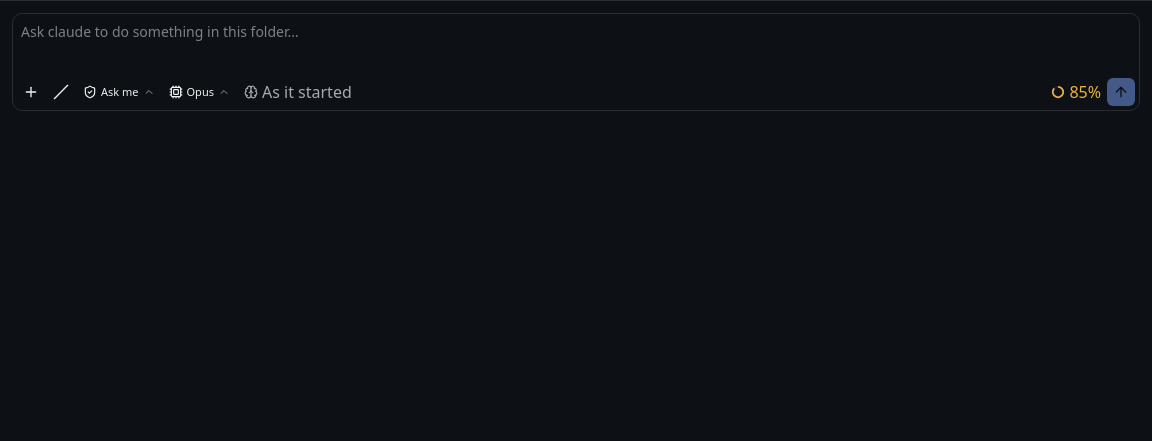
Test: the mode, the model and the effort in the bar — plan 09, B-11 › puts the chip back, with the refusal translated above the box — S-23
Click the button "Ask me" at (119, 92), box left=77, top=78, right=160, bottom=106
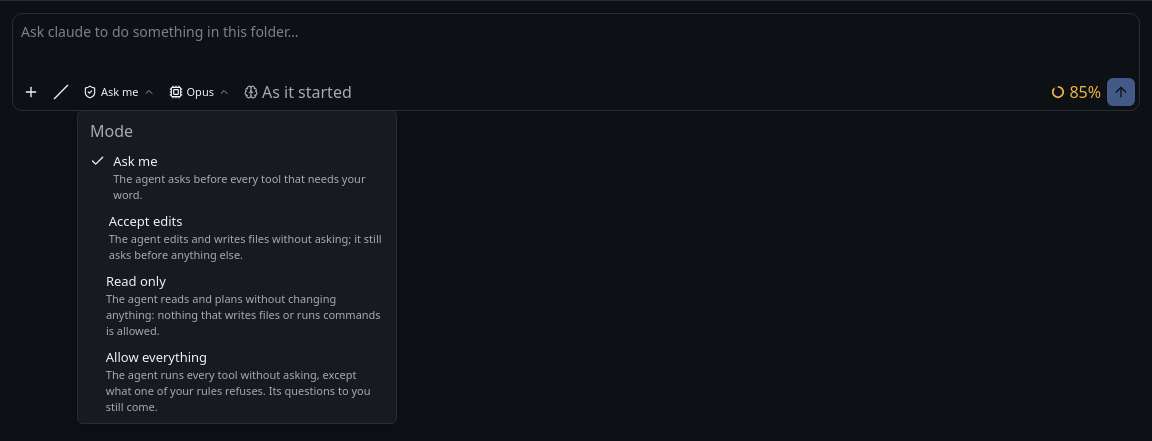
Click the menu item that starts with "Read only" at (237, 305), box left=82, top=267, right=392, bottom=343
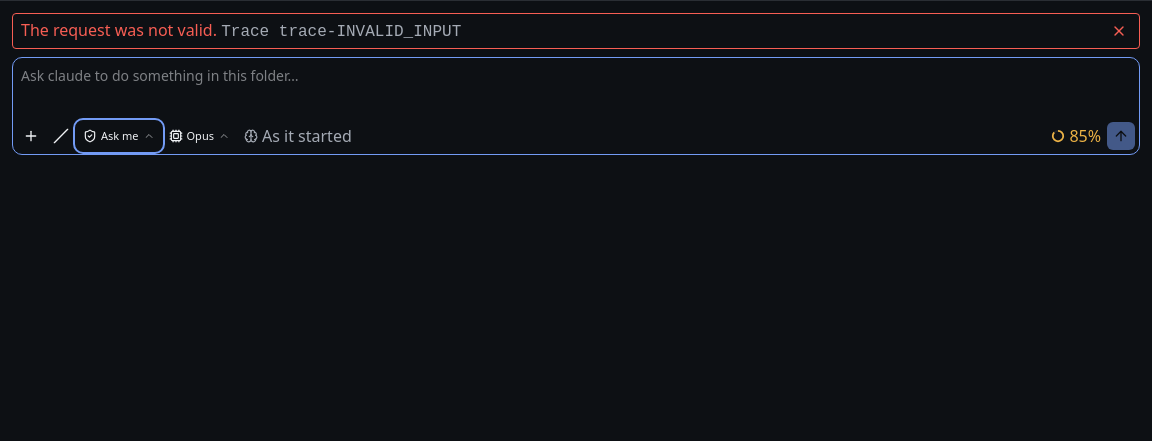
Result: the message shows "The request was not valid." at left=21, top=19, right=217, bottom=41
The strip closes, and the box stays as it was.
Click the button named "Close this message" at (1119, 31), box left=1107, top=19, right=1131, bottom=43
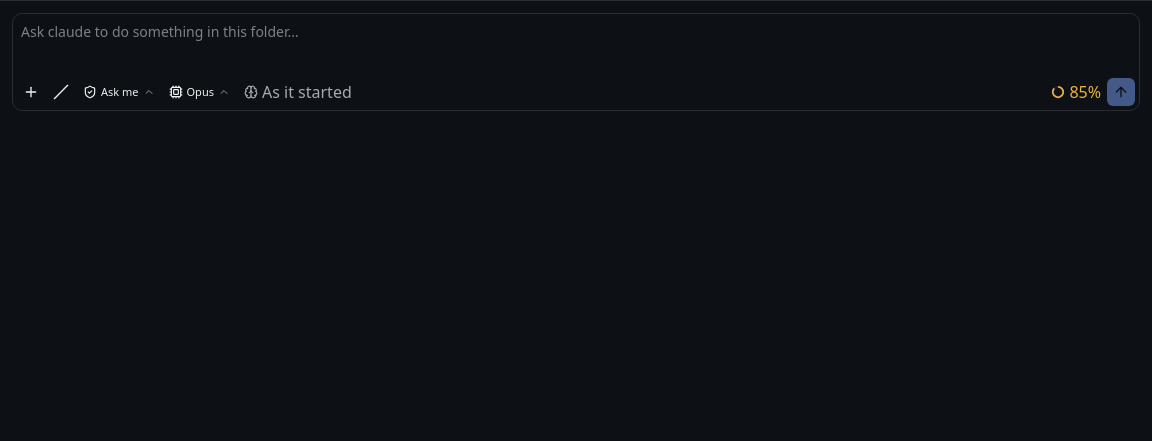
Result: the message "The request was not valid. Trace trace-INVALID_INPUT" is gone
